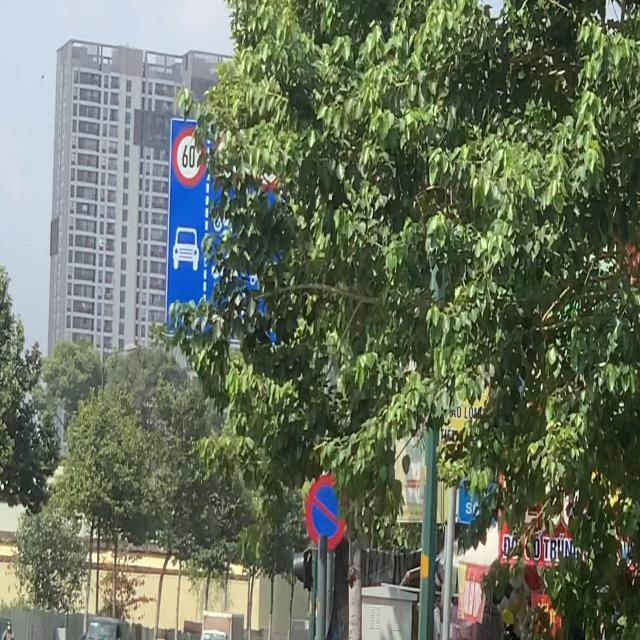Cam do: (306, 474, 348, 549)
Toc do toi da: (172, 124, 209, 192)
